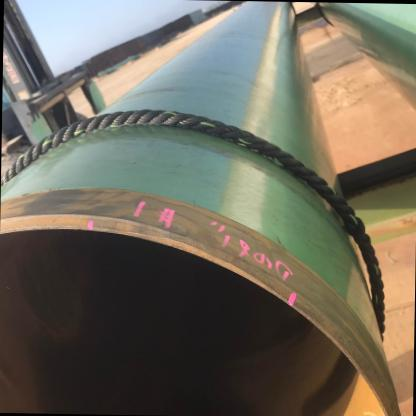Bevel: (133, 227, 276, 298)
